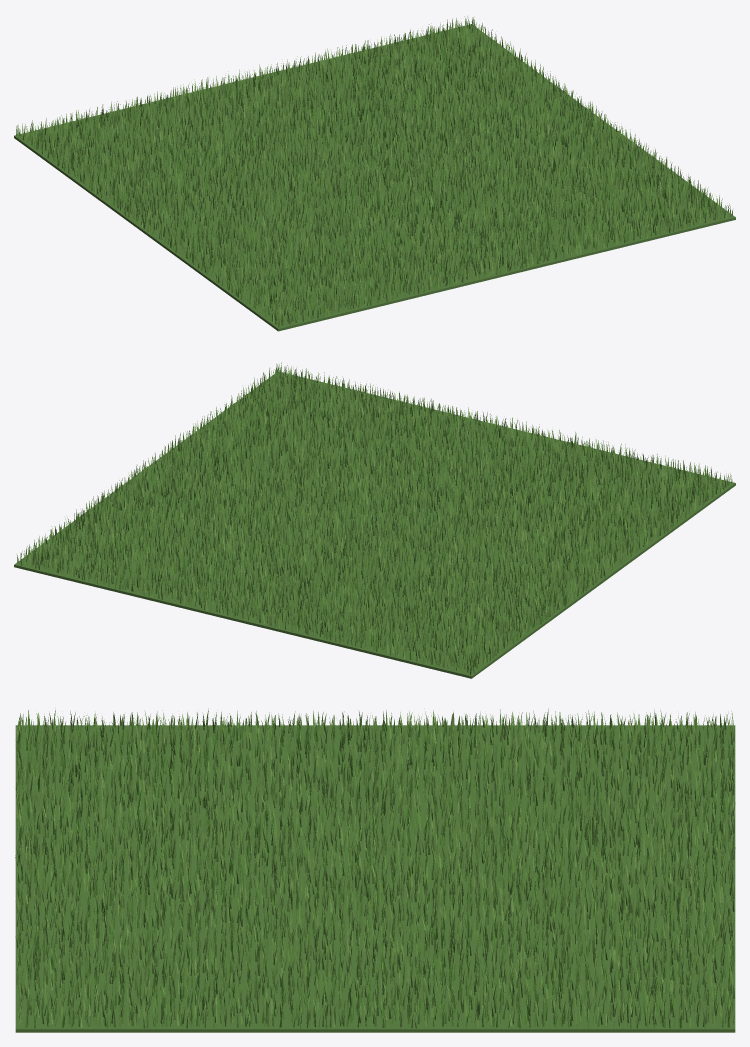
File: 5bdd2b5a-df98-4e0e-967b-46d0507b8d2c.glb
The picture shows the model from 3 angles, top to bottom: view 1: azimuth 30°, elevation 25°; view 2: azimuth 150°, elevation 25°; view 3: azimuth 270°, elevation 25°; orthographic projection. The views are drawn at different scales.
Visible parts, largest first — view 1: Grass_Blades_4m, Ground_4m_x_4m; view 2: Grass_Blades_4m, Ground_4m_x_4m; view 3: Ground_4m_x_4m, Grass_Blades_4m.
Part boxes in pixels (left/top/right/bottom): Grass_Blades_4m: left=16, top=16, right=732, bottom=326; Ground_4m_x_4m: left=14, top=24, right=735, bottom=331; Grass_Blades_4m: left=16, top=362, right=732, bottom=674; Ground_4m_x_4m: left=14, top=372, right=735, bottom=678; Ground_4m_x_4m: left=15, top=725, right=735, bottom=1032; Grass_Blades_4m: left=15, top=708, right=735, bottom=1028.
Size of the model in its own units: 4.02 by 0.13 by 4.01.
